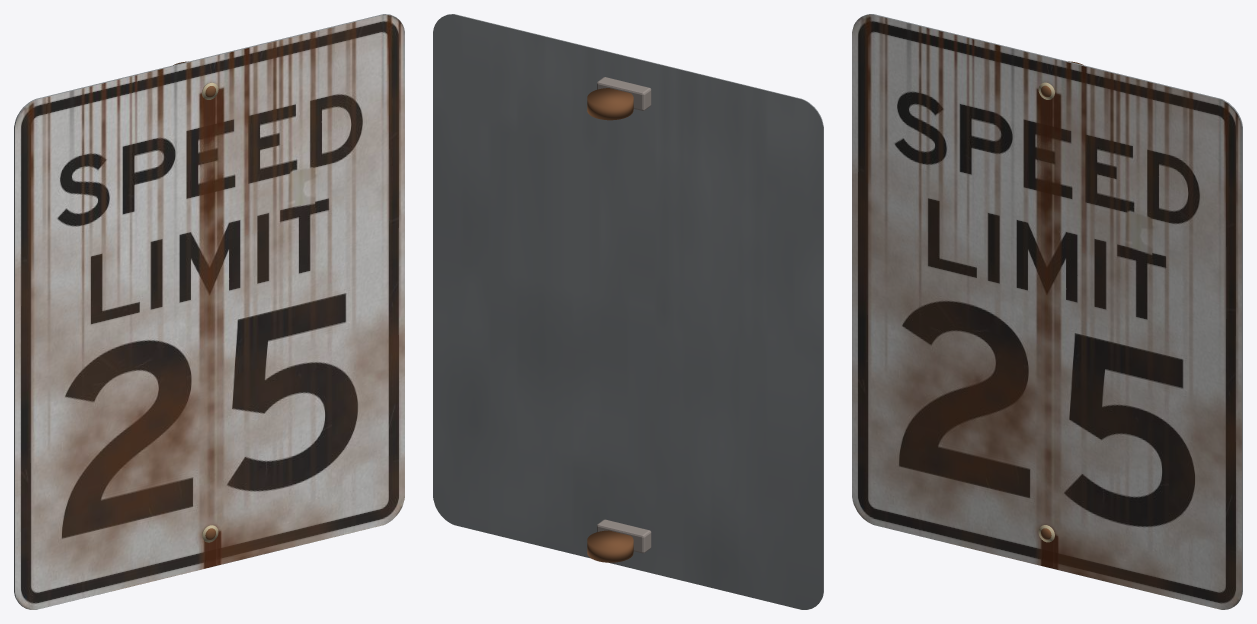
The model's file is speedLimit-v1-rusty.glb.
3 views of the same model, side by side, from view 1: azimuth 30°, elevation 25°; view 2: azimuth 150°, elevation 25°; view 3: azimuth 330°, elevation 25° (orthographic).
Parts seen in each view (by area): view 1: speedLimit-v1-rusty; view 2: speedLimit-v1-rusty; view 3: speedLimit-v1-rusty.
Boxes of the visible parts, left/top/right/bottom form: speedLimit-v1-rusty: left=14, top=14, right=404, bottom=609; speedLimit-v1-rusty: left=433, top=14, right=823, bottom=609; speedLimit-v1-rusty: left=852, top=14, right=1242, bottom=609.
Bounding box in the file's own units: 0.6096 × 0.7622 × 0.0871.
Materials: 1 (1 with a texture image).
